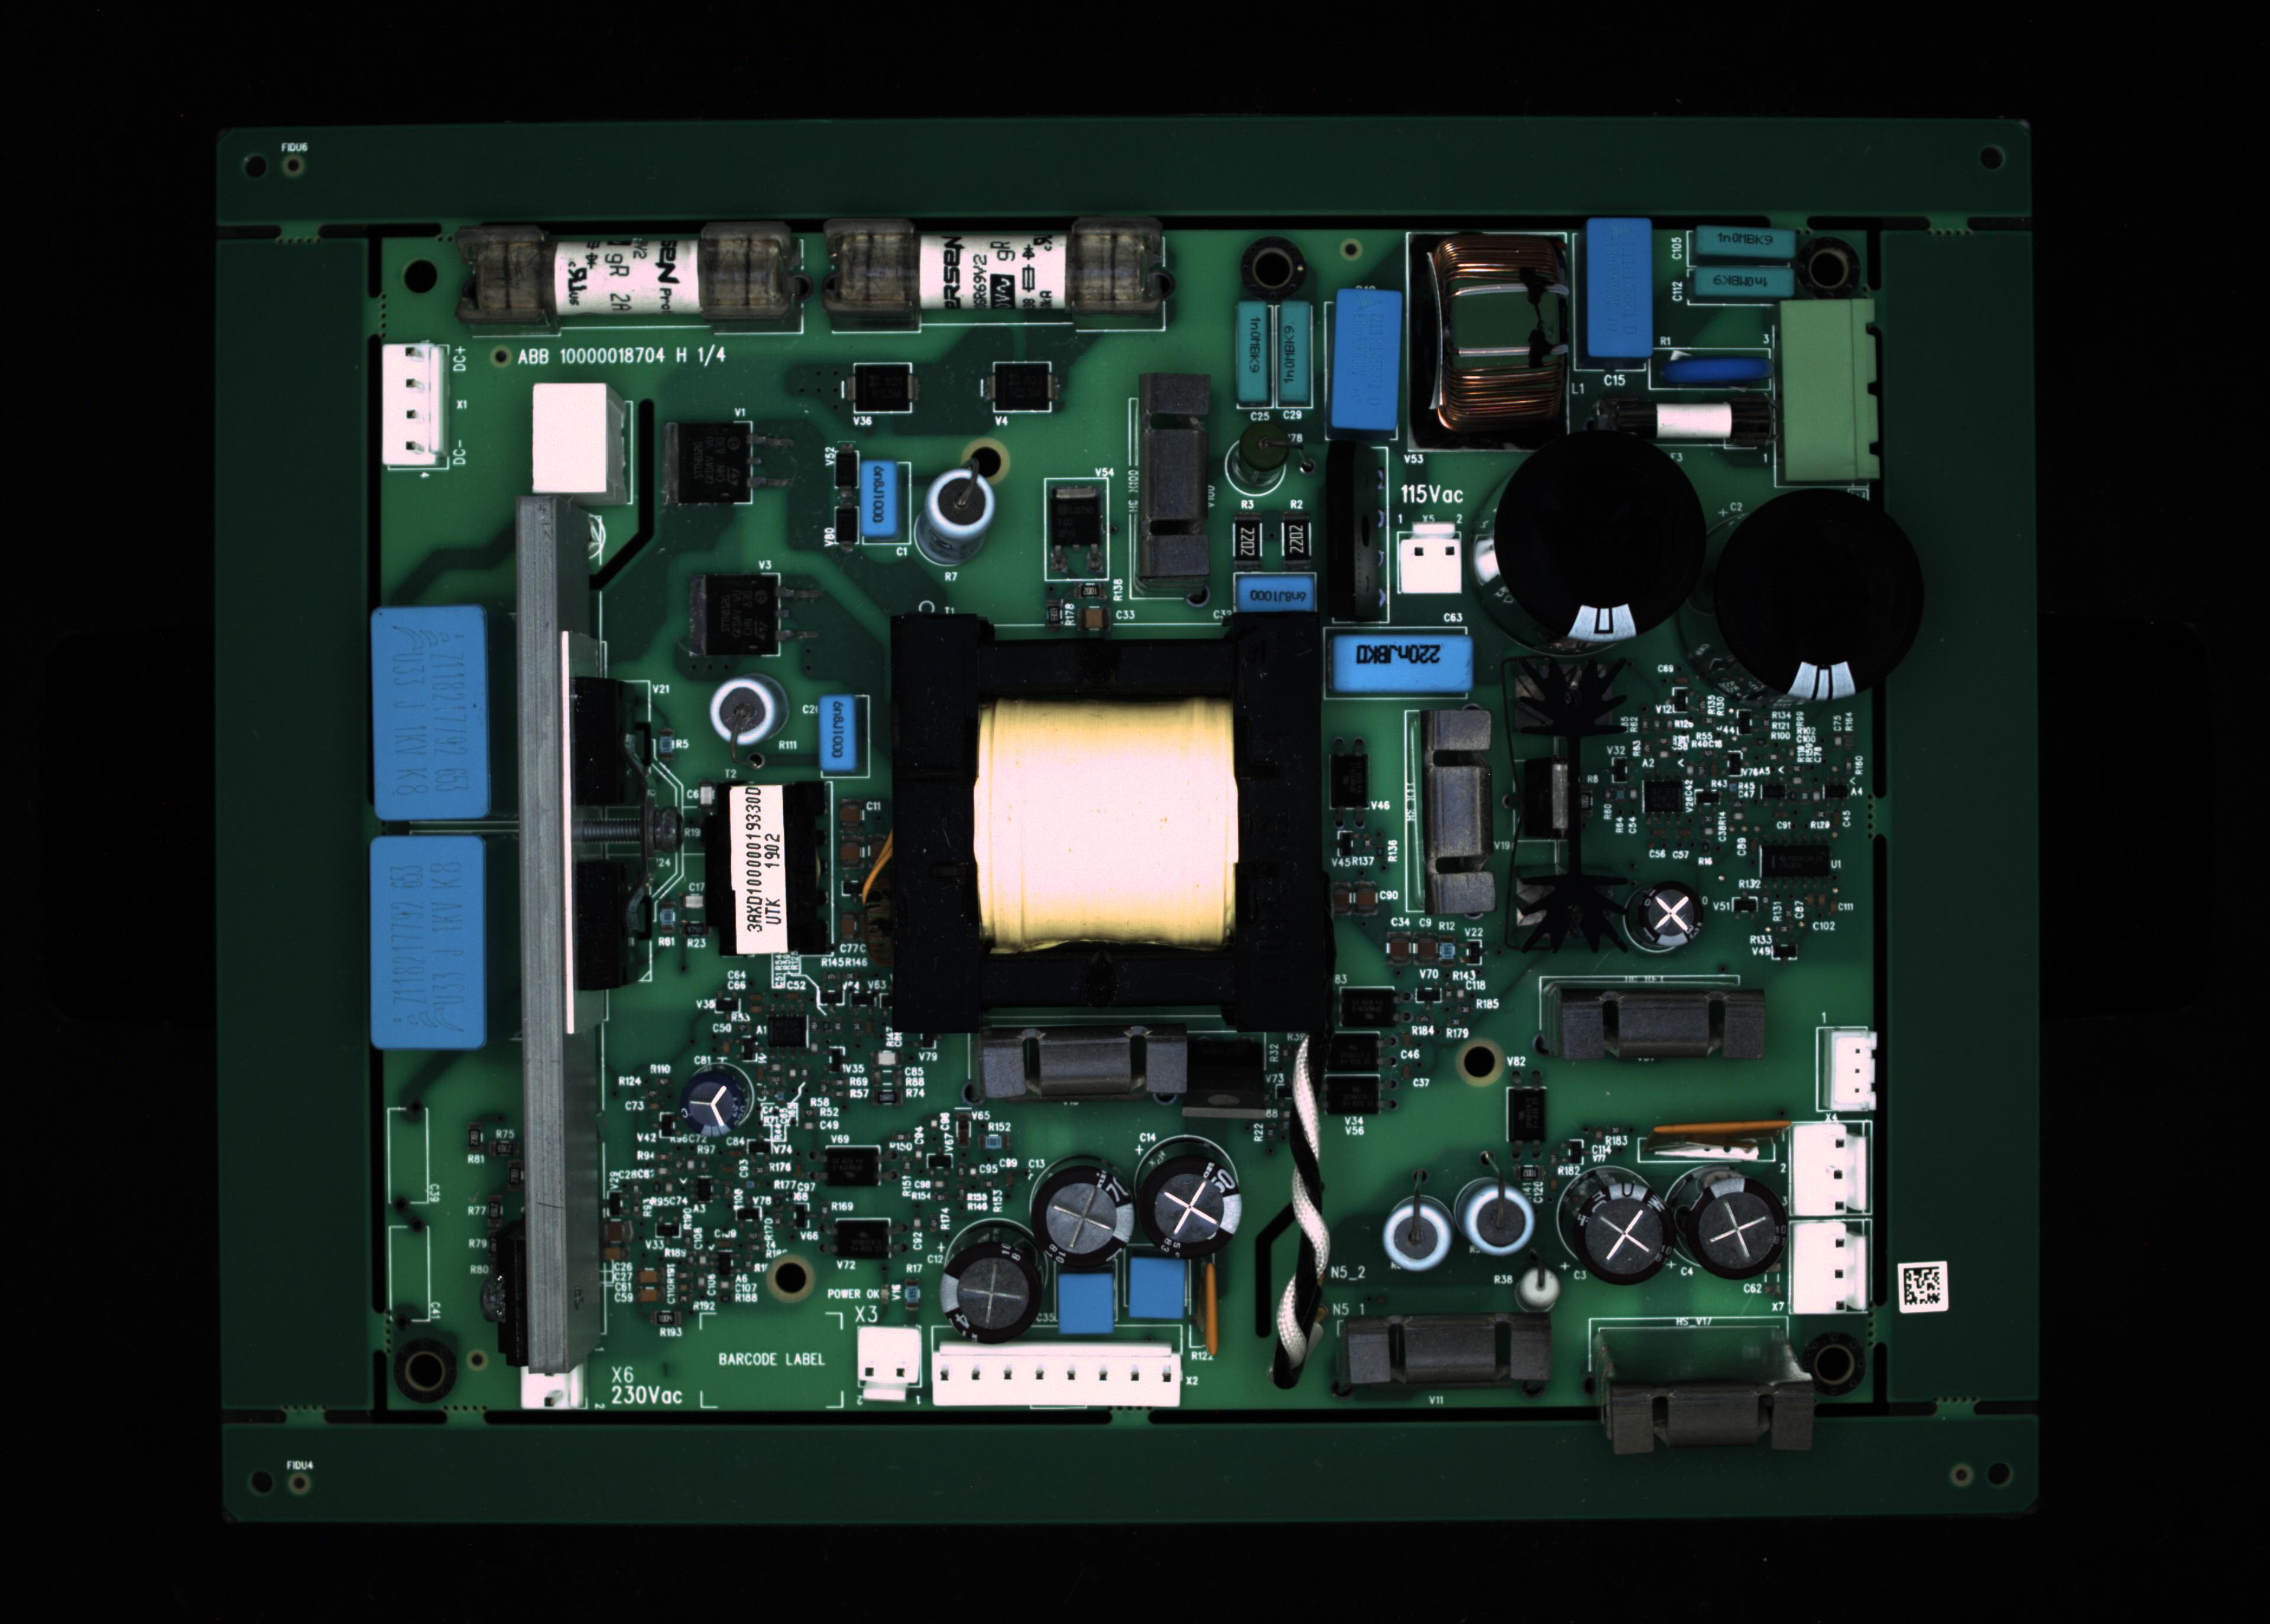10_p: (1648, 346, 1772, 394)
11_q: (1781, 301, 1880, 478)
12_r: (1591, 387, 1776, 455)
13_s: (383, 343, 441, 468)
14_t: (533, 385, 628, 499)
15_e: (853, 460, 897, 533)
16_k: (911, 469, 995, 568)
17_u: (1138, 373, 1213, 578)
18_v: (1234, 573, 1317, 615)
19_w: (1333, 634, 1473, 691)
1_a: (454, 216, 809, 325)
20_f: (1401, 522, 1461, 592)
21_g: (1491, 425, 1711, 643)
22_g: (1714, 485, 1927, 698)
23_h: (373, 608, 485, 817)
24_h: (373, 833, 487, 1051)
25_f: (520, 1364, 587, 1410)
26_f: (855, 1327, 920, 1401)
27_x: (935, 1341, 1180, 1404)
28_i: (1136, 1151, 1241, 1260)
29_i: (1030, 1162, 1136, 1272)
2_a: (821, 216, 1175, 316)
30_i: (939, 1237, 1048, 1346)
31_j: (1059, 1272, 1115, 1336)
32_j: (1127, 1257, 1190, 1316)
33_e: (823, 692, 858, 772)
34_k: (1386, 1192, 1456, 1272)
35_k: (1454, 1176, 1535, 1255)
36_i: (1570, 1181, 1677, 1285)
37_i: (1688, 1174, 1788, 1280)
38_l: (1345, 1318, 1560, 1388)
39_l: (1611, 1383, 1813, 1454)
3_b: (1236, 295, 1270, 401)
40_l: (1539, 977, 1771, 1069)
41_y: (1419, 708, 1496, 916)
42_z: (1832, 1030, 1874, 1109)
43_m: (1795, 1120, 1867, 1216)
44_m: (1793, 1222, 1867, 1315)
45_i: (673, 1069, 746, 1141)
46_n: (1338, 990, 1394, 1032)
47_n: (819, 1148, 883, 1188)
48_n: (835, 1220, 893, 1262)
49_aa: (767, 1014, 805, 1049)
4_b: (1280, 299, 1310, 404)
50_n: (1326, 1033, 1380, 1072)
51_n: (1324, 1076, 1377, 1118)
52_ab: (1329, 752, 1368, 808)
53_ac: (1656, 1130, 1790, 1165)
54_ad: (1199, 1258, 1222, 1357)
55_l: (974, 1019, 1187, 1102)
56_ae: (1185, 1033, 1266, 1120)
57_af: (1509, 647, 1635, 951)
58_i: (1639, 881, 1709, 947)
59_o: (992, 360, 1051, 410)
5_c: (1333, 286, 1400, 427)
60_o: (856, 362, 916, 413)
6_6: (1405, 232, 1572, 452)
7_c: (1588, 218, 1649, 359)
8_d: (1686, 227, 1792, 260)
9_d: (1684, 262, 1793, 308)
